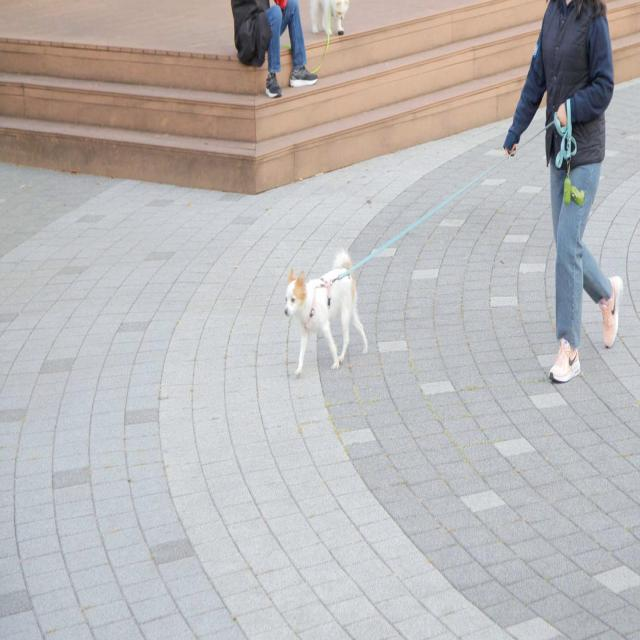Leashed_Dog: (284, 120, 562, 383), (257, 0, 349, 72)
